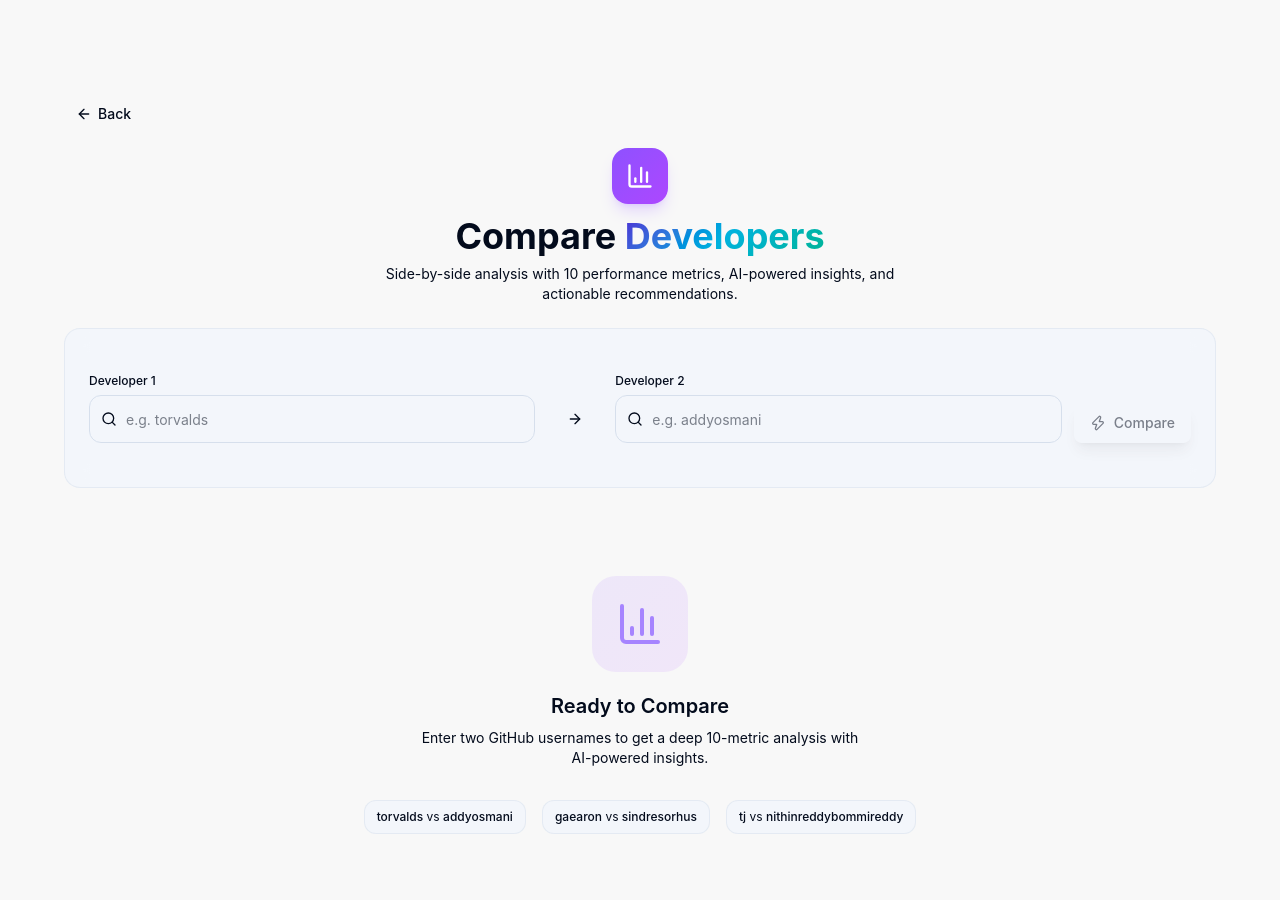
Test: ComparePage › keeps long developer names readable — full name in the title tooltip, not hard-truncated
In the field with placeholder "e.g. torvalds": (312, 419) [89,395,535,443], type "alice"
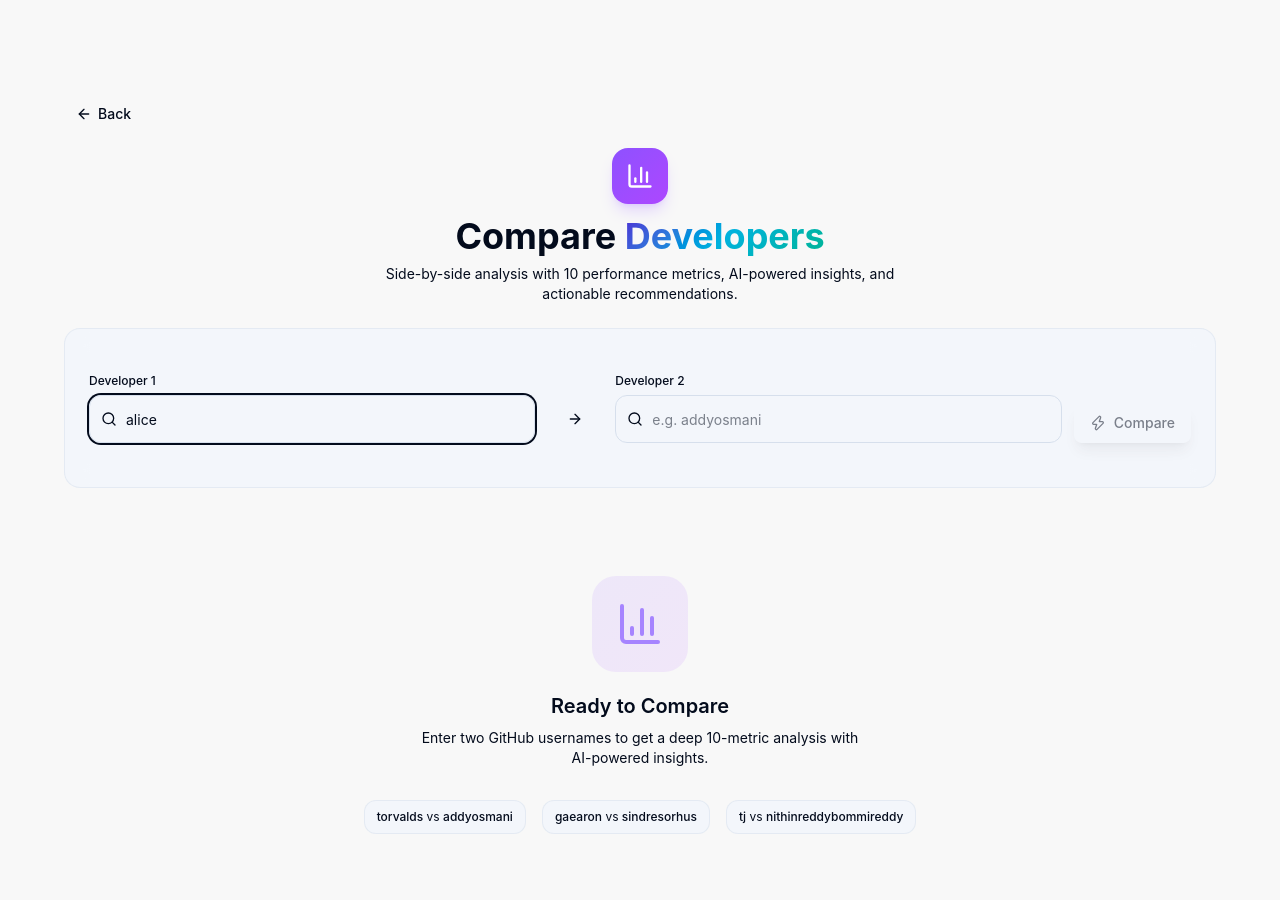
In the field with placeholder "e.g. addyosmani": (839, 419) [615,395,1062,443], type "bob"
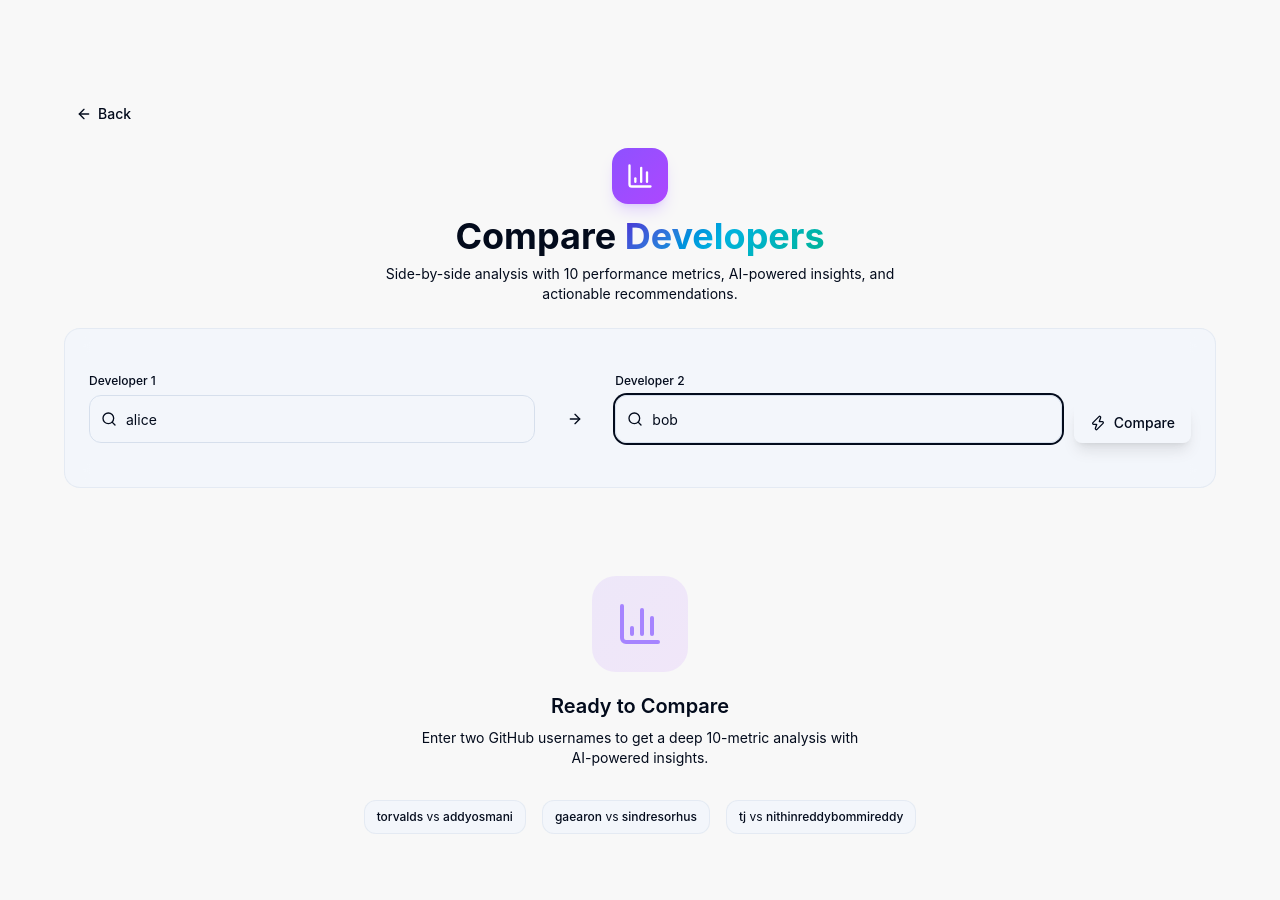
Click the button "Compare": (1132, 423) [1074,403,1191,443]
(page scrolled)
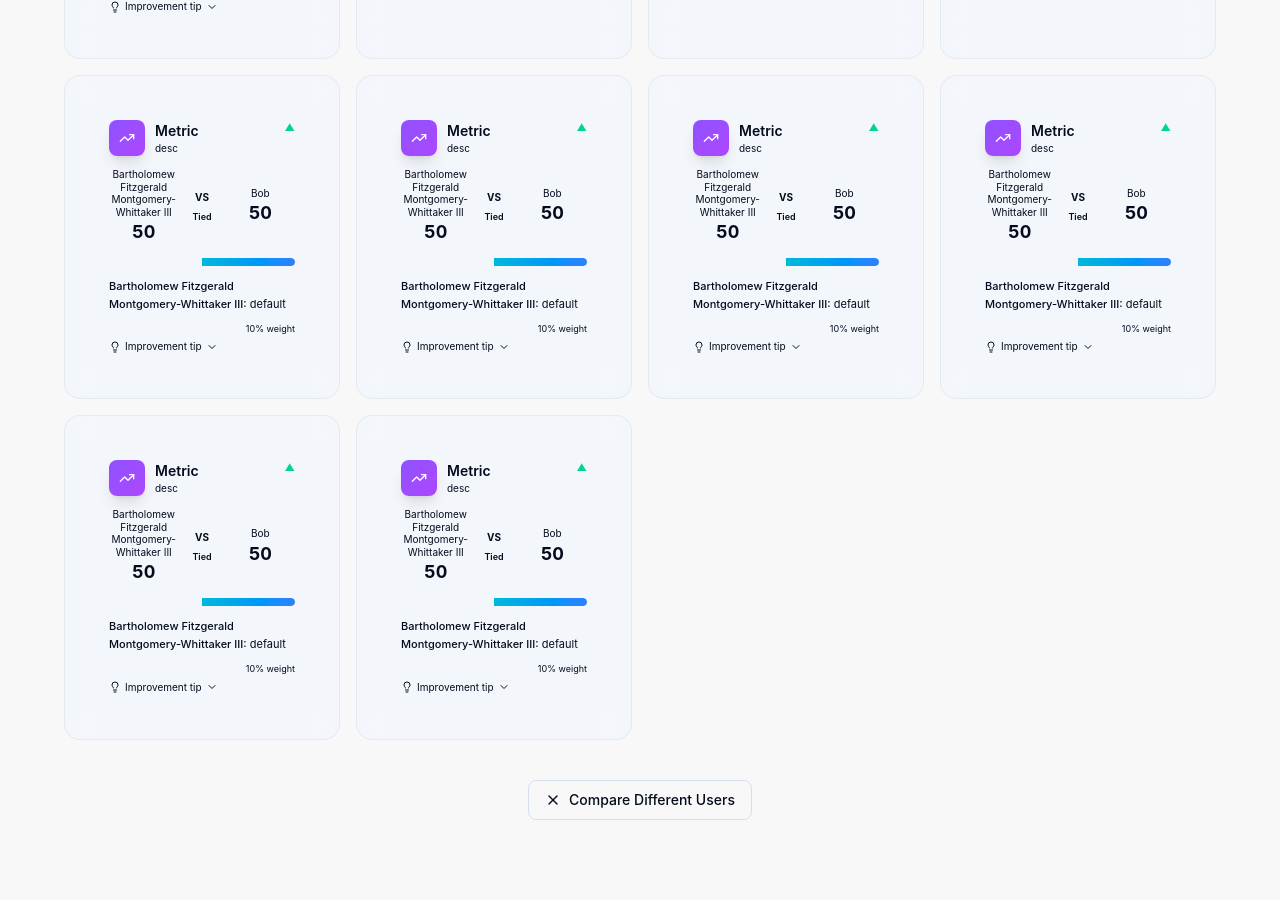
Expected: the 1st text titled "Bartholomew Fitzgerald Montgomery-Whittaker III" is shown, [109,168,178,218]
Expected: the 2nd text titled "Bartholomew Fitzgerald Montgomery-Whittaker III" is shown, [401,168,470,218]
Expected: the 3rd text titled "Bartholomew Fitzgerald Montgomery-Whittaker III" is shown, [693,168,762,218]
